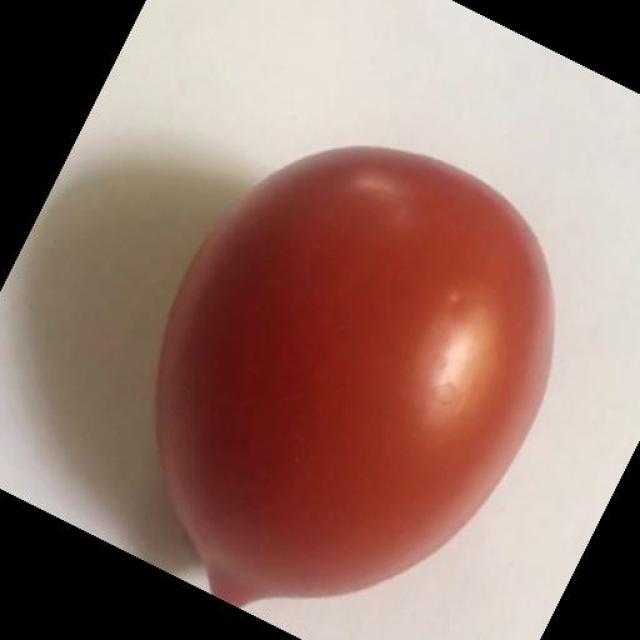ripe tomato: (152, 133, 560, 619)
